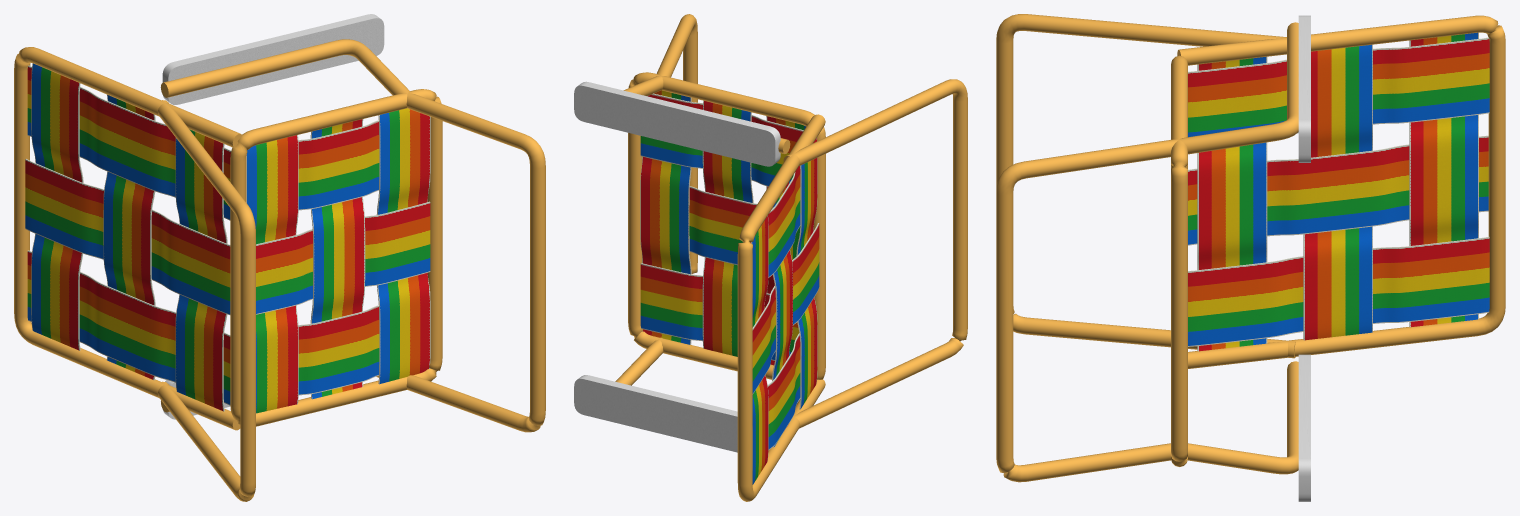
Rendered from WingWalker_BeachChair.glb.
3 renders of one model, left to right at view 1: azimuth 30°, elevation 25°; view 2: azimuth 150°, elevation 25°; view 3: azimuth 270°, elevation 25°, orthographic. The views are drawn at different scales.
Parts seen in each view (by area): view 1: Unscience_WingWalker_BeachChair, Unscience_WingWalker_BeachChair_Frame; view 2: Unscience_WingWalker_BeachChair, Unscience_WingWalker_BeachChair_Frame; view 3: Unscience_WingWalker_BeachChair, Unscience_WingWalker_BeachChair_Frame.
Part boxes in pixels (bbox=[...]): Unscience_WingWalker_BeachChair: bbox=[25, 14, 430, 419]; Unscience_WingWalker_BeachChair_Frame: bbox=[14, 39, 545, 501]; Unscience_WingWalker_BeachChair: bbox=[574, 81, 819, 484]; Unscience_WingWalker_BeachChair_Frame: bbox=[615, 14, 967, 501]; Unscience_WingWalker_BeachChair: bbox=[1173, 15, 1489, 501]; Unscience_WingWalker_BeachChair_Frame: bbox=[996, 14, 1505, 482].
Bounding box in the file's own units: 0.618 × 0.687 × 0.834.
2 materials, 1 textured.
